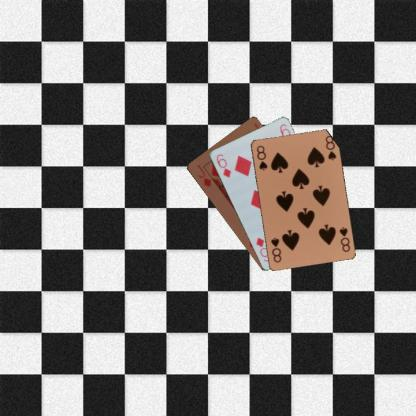6d: (214, 151, 232, 179)
8s: (336, 224, 352, 253), (254, 142, 268, 172)
Jd: (194, 162, 212, 188)
